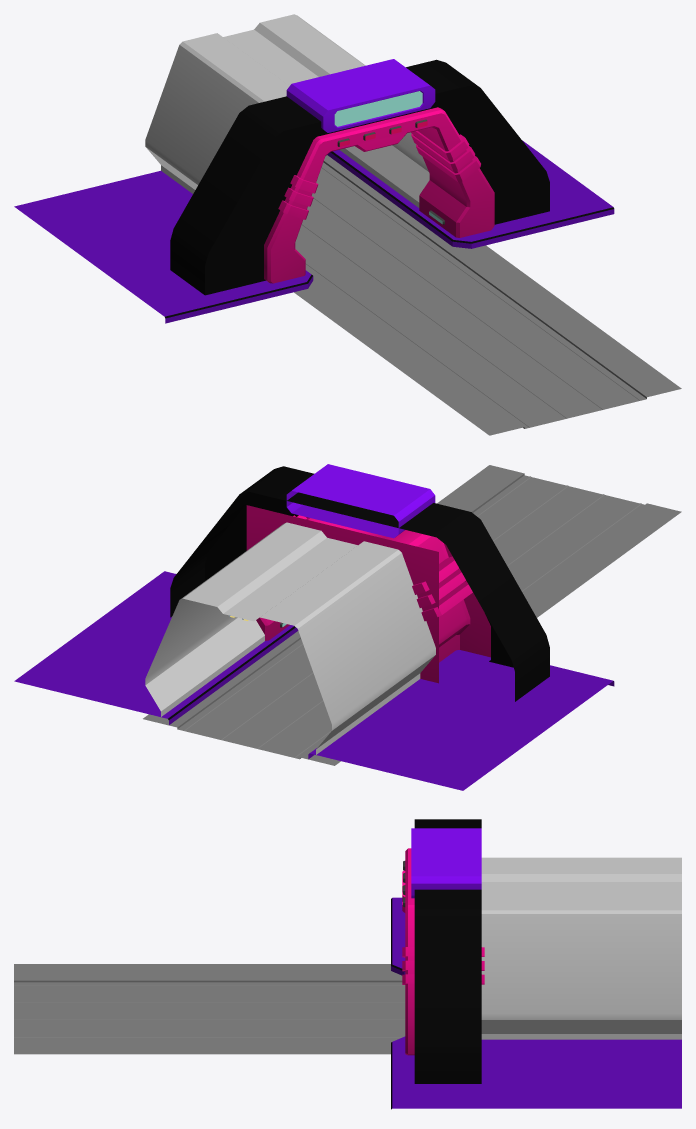
The model's file is Comercio_Tramo_Tunel.FBX.
3 renders of one model, top to bottom at view 1: azimuth 30°, elevation 25°; view 2: azimuth 150°, elevation 25°; view 3: azimuth 270°, elevation 25°, orthographic. The views are drawn at different scales.
Parts seen in each view (by area): view 1: Comercio_Entrada_Tunel, Comercio_Tramo_Tunel; view 2: Comercio_Entrada_Tunel, Comercio_Tramo_Tunel; view 3: Comercio_Entrada_Tunel, Comercio_Tramo_Tunel.
Part boxes in pixels (x1,y1,x2,y2): Comercio_Entrada_Tunel: (14, 14, 614, 323); Comercio_Tramo_Tunel: (294, 155, 681, 435); Comercio_Entrada_Tunel: (14, 464, 614, 790); Comercio_Tramo_Tunel: (143, 465, 681, 765); Comercio_Entrada_Tunel: (391, 819, 681, 1109); Comercio_Tramo_Tunel: (14, 964, 405, 1054).
Bounding box in the file's own units: 3734 × 5000 × 1310.
